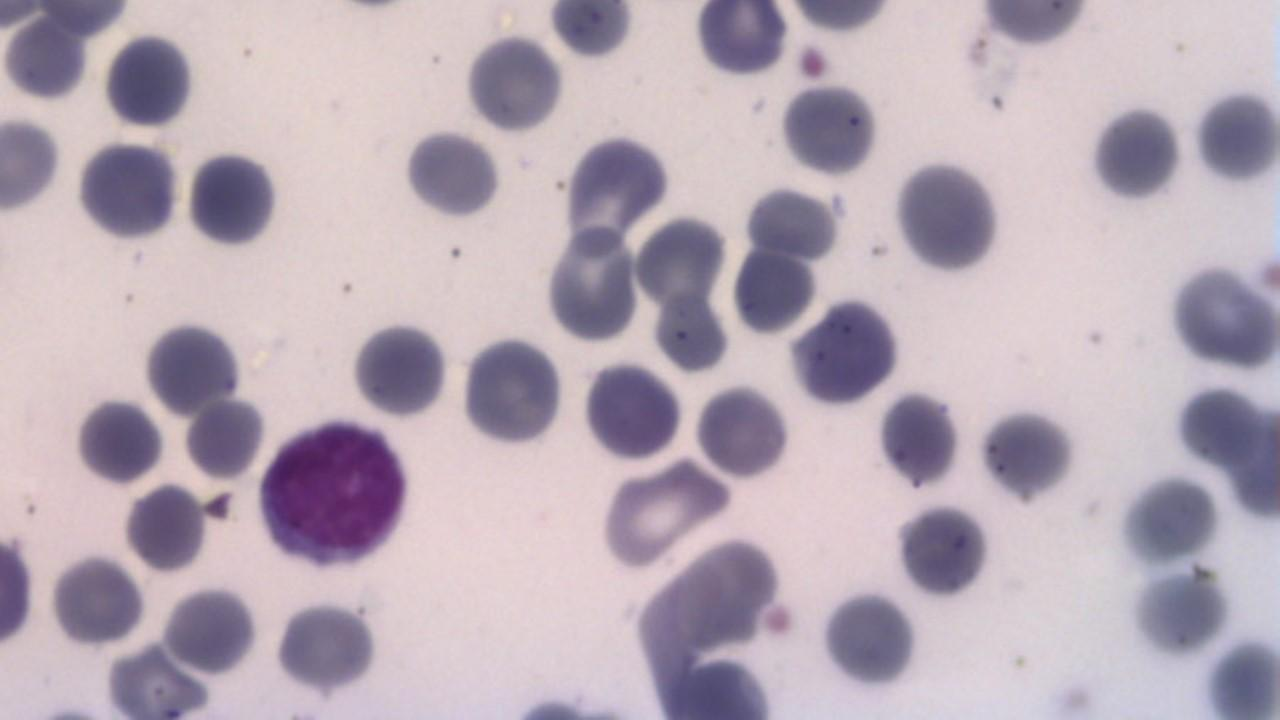Platelets: (890, 154, 1010, 280), (458, 330, 570, 450), (1165, 258, 1279, 374), (74, 135, 186, 244), (815, 588, 924, 690), (347, 316, 451, 422), (1083, 100, 1187, 206), (974, 401, 1082, 502), (774, 79, 881, 180), (270, 598, 385, 691), (1112, 473, 1224, 568), (140, 315, 242, 419), (892, 500, 994, 604), (183, 144, 281, 252), (98, 31, 202, 132), (400, 126, 506, 224), (1125, 567, 1233, 662), (1189, 83, 1279, 192), (876, 384, 962, 492), (119, 481, 211, 576), (70, 396, 164, 488), (690, 3, 790, 78), (650, 287, 730, 376), (1201, 630, 1279, 718), (546, 1, 635, 63), (792, 40, 832, 82)
RBC: (459, 331, 566, 448), (542, 222, 640, 344), (73, 136, 184, 238), (463, 30, 566, 138), (271, 596, 383, 694), (776, 79, 882, 181), (581, 358, 683, 464), (399, 123, 506, 222), (692, 382, 793, 481), (47, 552, 147, 650), (729, 244, 816, 337), (0, 12, 87, 103), (692, 0, 788, 80), (182, 392, 264, 484), (650, 289, 730, 376), (0, 113, 62, 214), (0, 528, 33, 653), (0, 0, 45, 30)
WBC: (691, 0, 1280, 720), (0, 302, 574, 720), (250, 414, 419, 573), (787, 293, 907, 412), (888, 155, 1004, 276), (74, 136, 184, 244), (348, 312, 456, 419), (774, 79, 886, 181), (462, 31, 566, 137), (399, 127, 509, 225), (98, 31, 198, 131), (690, 2, 792, 79)
